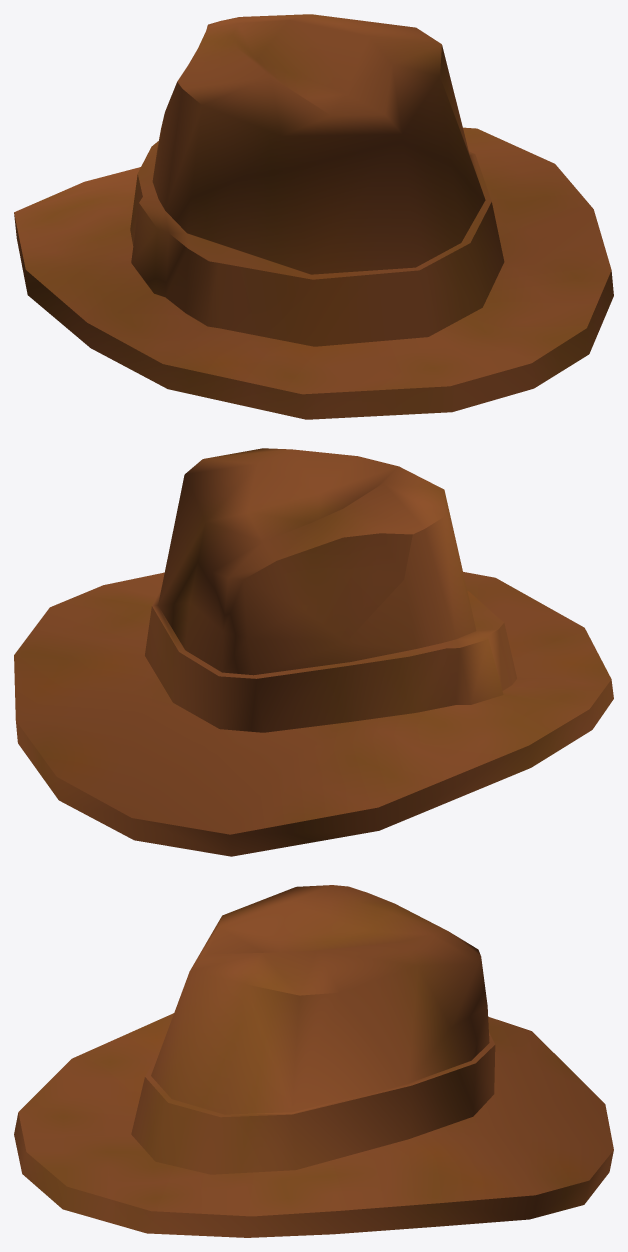
Rendered from PS2.ico.obj.
The picture shows the model from 3 angles, top to bottom: view 1: azimuth 30°, elevation 25°; view 2: azimuth 150°, elevation 25°; view 3: azimuth 270°, elevation 25°; orthographic projection. The views are drawn at different scales.
Size of the model in its own units: 2.92 by 1.41 by 3.23.
Materials: 1 (1 with a texture image).
